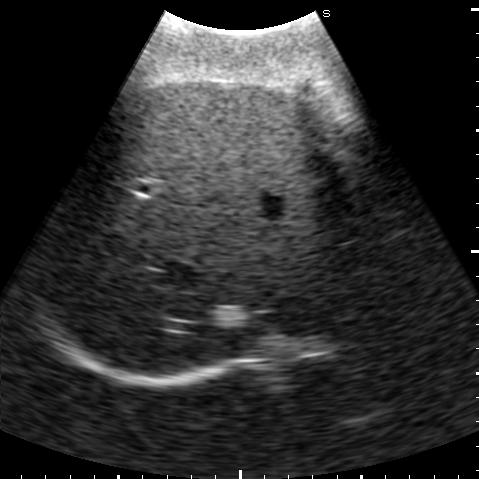S5: (119, 82, 339, 197)
S7: (37, 164, 160, 313)
S8: (102, 160, 376, 374)
Tumor: (208, 305, 251, 329)
